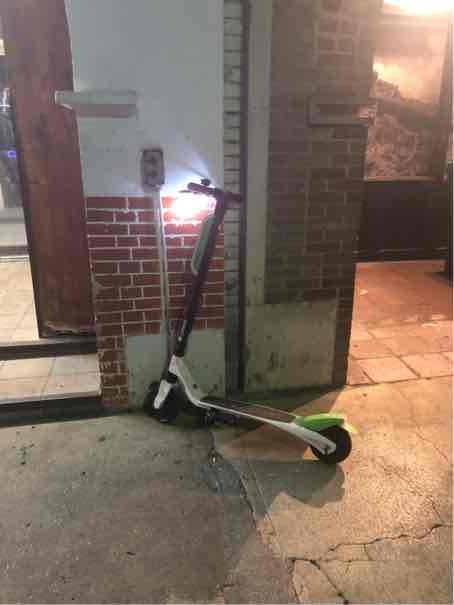scooter: (143, 166, 358, 474)
